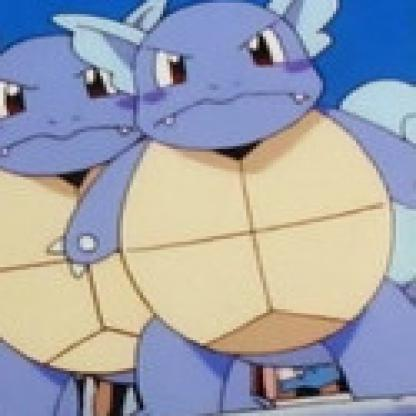Wartortle: (124, 1, 414, 414), (1, 1, 124, 414)
